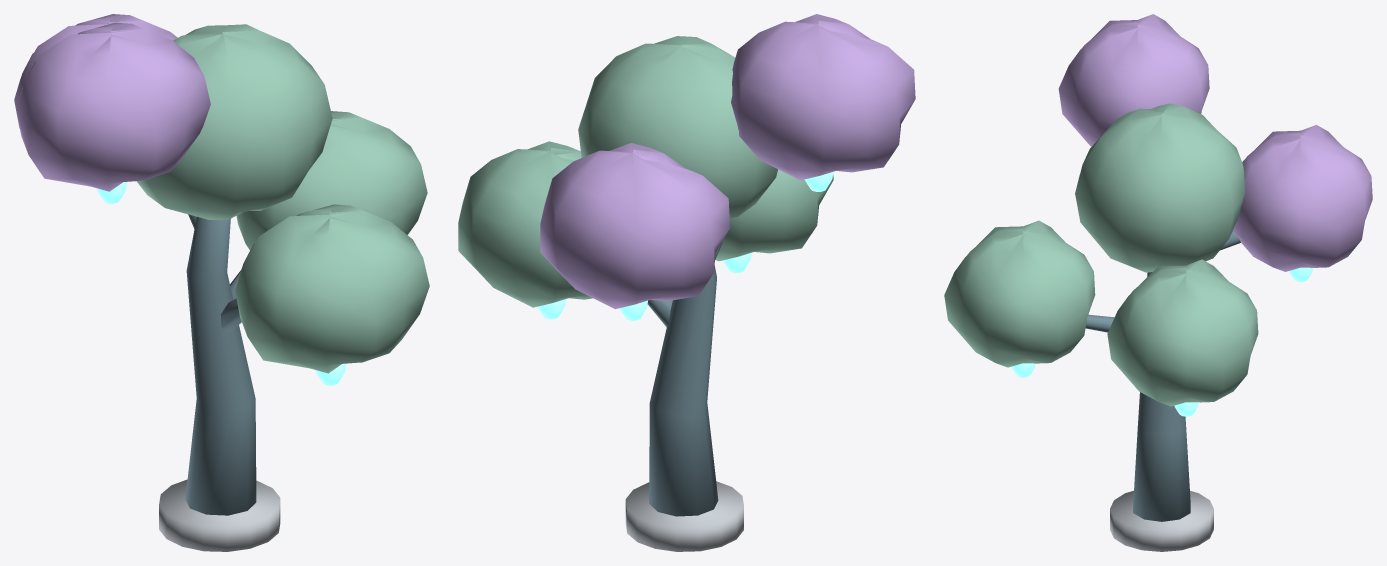
File: can_lantern_sapling.glb
3 views of the same model, side by side, from view 1: azimuth 30°, elevation 25°; view 2: azimuth 150°, elevation 25°; view 3: azimuth 270°, elevation 25° (orthographic). The views are drawn at different scales.
Parts seen in each view (by area): view 1: CAN_lantern_sapling_crown_3, CAN_lantern_sapling_crown_2, CAN_lantern_sapling_crown_center, CAN_lantern_sapling_trunk, CAN_lantern_sapling_crown_0, CAN_lantern_sapling_root_collar, CAN_lantern_sapling_crown_1; view 2: CAN_lantern_sapling_crown_1, CAN_lantern_sapling_crown_2, CAN_lantern_sapling_crown_center, CAN_lantern_sapling_crown_0, CAN_lantern_sapling_trunk, CAN_lantern_sapling_crown_3, CAN_lantern_sapling_root_collar; view 3: CAN_lantern_sapling_crown_center, CAN_lantern_sapling_crown_0, CAN_lantern_sapling_crown_3, CAN_lantern_sapling_crown_1, CAN_lantern_sapling_crown_2, CAN_lantern_sapling_trunk, CAN_lantern_sapling_root_collar.
Part boxes in pixels (<box>): CAN_lantern_sapling_crown_3: <box>235,204,429,373</box>; CAN_lantern_sapling_crown_2: <box>16,22,210,191</box>; CAN_lantern_sapling_crown_center: <box>136,24,332,219</box>; CAN_lantern_sapling_trunk: <box>185,217,256,515</box>; CAN_lantern_sapling_crown_0: <box>236,111,427,250</box>; CAN_lantern_sapling_root_collar: <box>159,479,280,551</box>; CAN_lantern_sapling_crown_1: <box>14,14,177,128</box>; CAN_lantern_sapling_crown_1: <box>540,143,730,309</box>; CAN_lantern_sapling_crown_2: <box>731,14,915,180</box>; CAN_lantern_sapling_crown_center: <box>578,36,777,218</box>; CAN_lantern_sapling_crown_0: <box>458,141,592,307</box>; CAN_lantern_sapling_trunk: <box>649,265,718,516</box>; CAN_lantern_sapling_crown_3: <box>715,169,833,261</box>; CAN_lantern_sapling_root_collar: <box>625,481,743,551</box>; CAN_lantern_sapling_crown_center: <box>1075,103,1244,272</box>; CAN_lantern_sapling_crown_0: <box>1107,259,1258,406</box>; CAN_lantern_sapling_crown_3: <box>944,220,1095,367</box>; CAN_lantern_sapling_crown_1: <box>1232,125,1372,271</box>; CAN_lantern_sapling_crown_2: <box>1058,14,1209,146</box>; CAN_lantern_sapling_trunk: <box>1133,272,1190,521</box>; CAN_lantern_sapling_root_collar: <box>1110,490,1213,551</box>.
Size of the model in its own units: 2.61 by 3.21 by 2.72.
